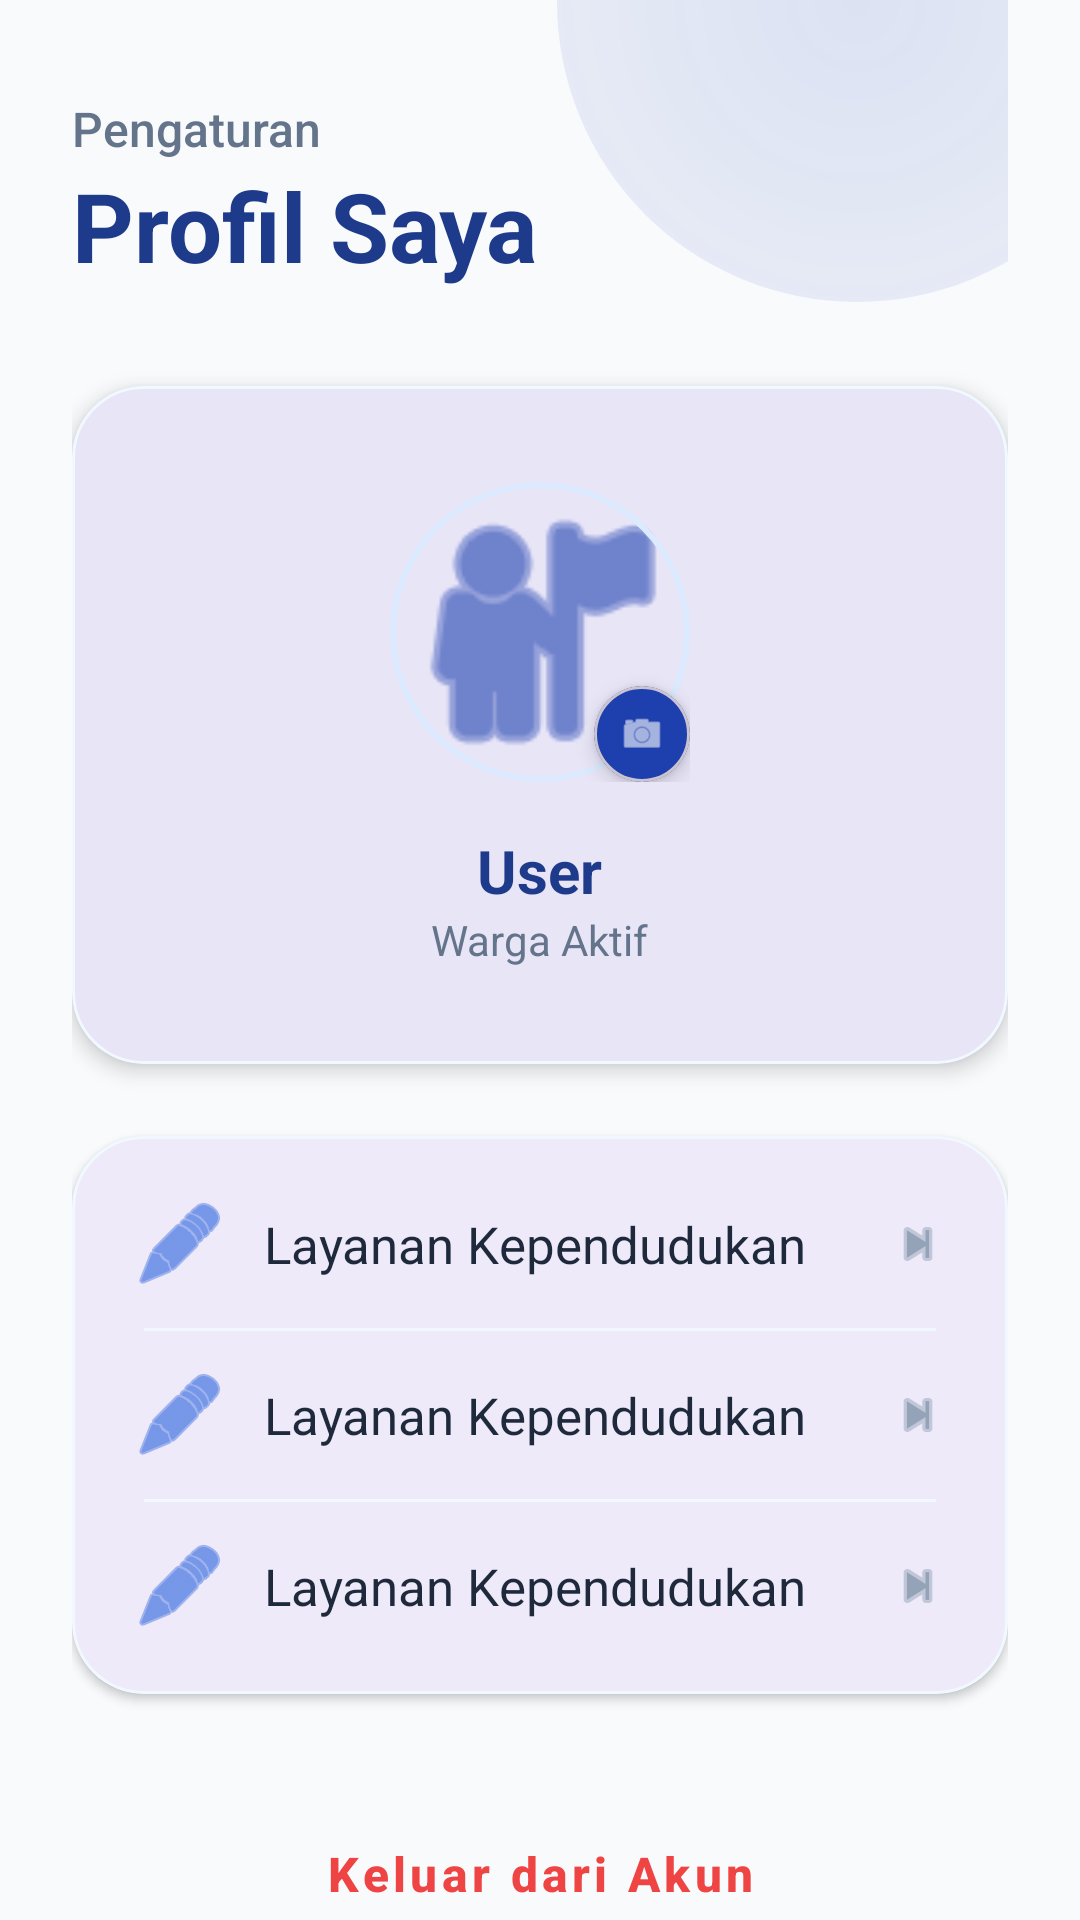

Screen size 1080x1920. Icon name, then its center in pixels as point (x, y):
edit: point (179, 1243), point (179, 1414), point (179, 1585)
next: point (918, 1244), point (918, 1415), point (918, 1586)
